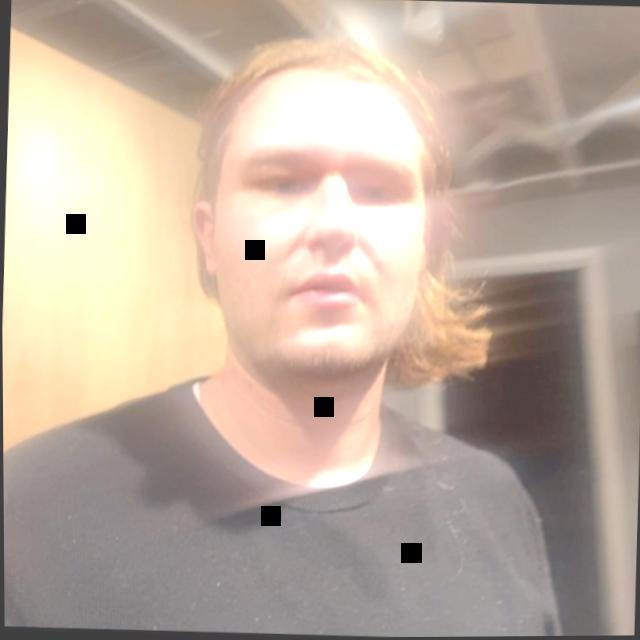NO-Mask: (166, 26, 504, 440)
